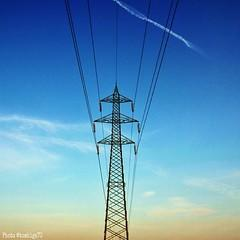power_tower: (82, 79, 153, 240)
